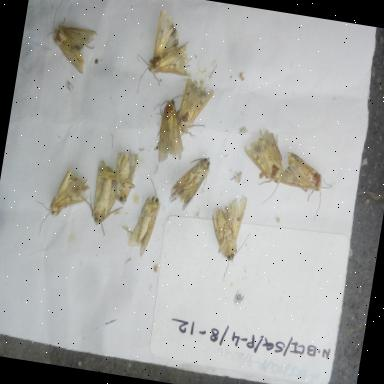abw: (128, 1, 203, 104), (198, 187, 258, 286), (28, 158, 96, 245), (72, 148, 132, 240), (232, 122, 294, 210), (270, 146, 339, 225), (34, 0, 103, 78), (120, 170, 172, 264), (162, 148, 217, 220), (149, 91, 195, 171), (168, 68, 220, 138), (105, 138, 147, 210)
